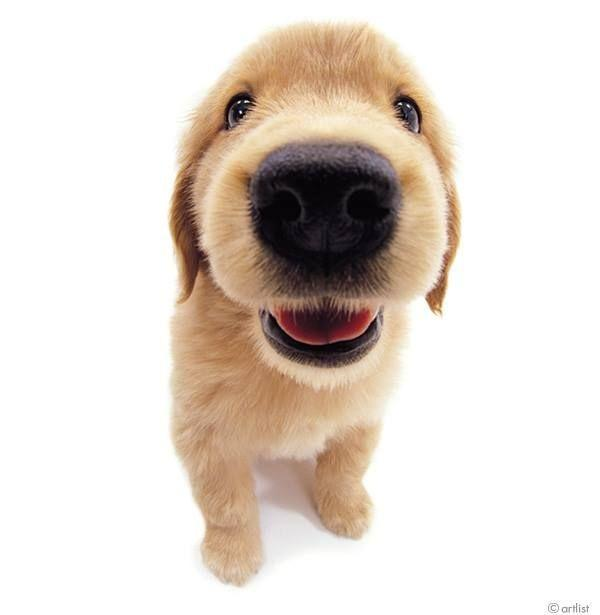puppy-dog: (166, 19, 463, 585)
